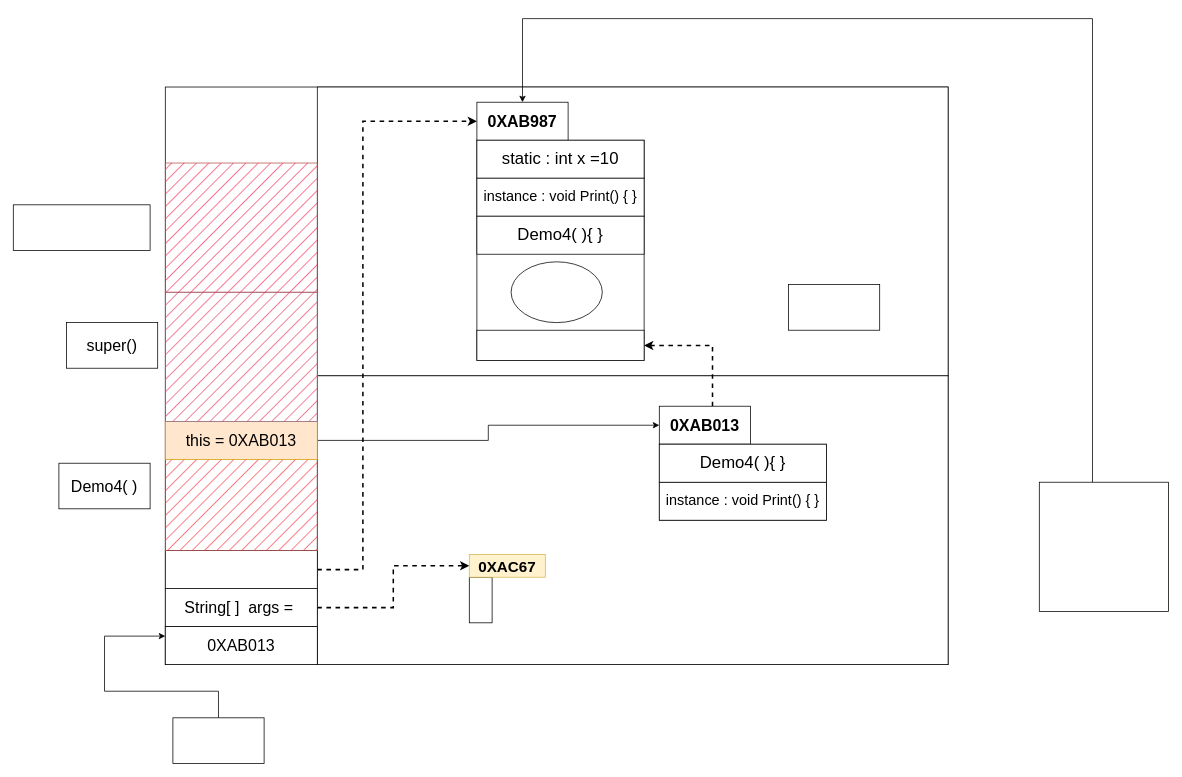
Image size: 1182x777. Some labels were removed from this diagram. The shapes that lost their labels are listed below. From the top down, each one's box as (x1, y1, x2, y2) in pixels, then its label:
(13, 204, 150, 250): 0XAB013 .print()
(510, 261, 602, 323): PSVM
(476, 329, 644, 361): Demo4 class Object
(1039, 481, 1168, 611): Demo4.class
(165, 550, 317, 589): RCP = 0XAB987
(172, 717, 264, 763): temporiily stroes
